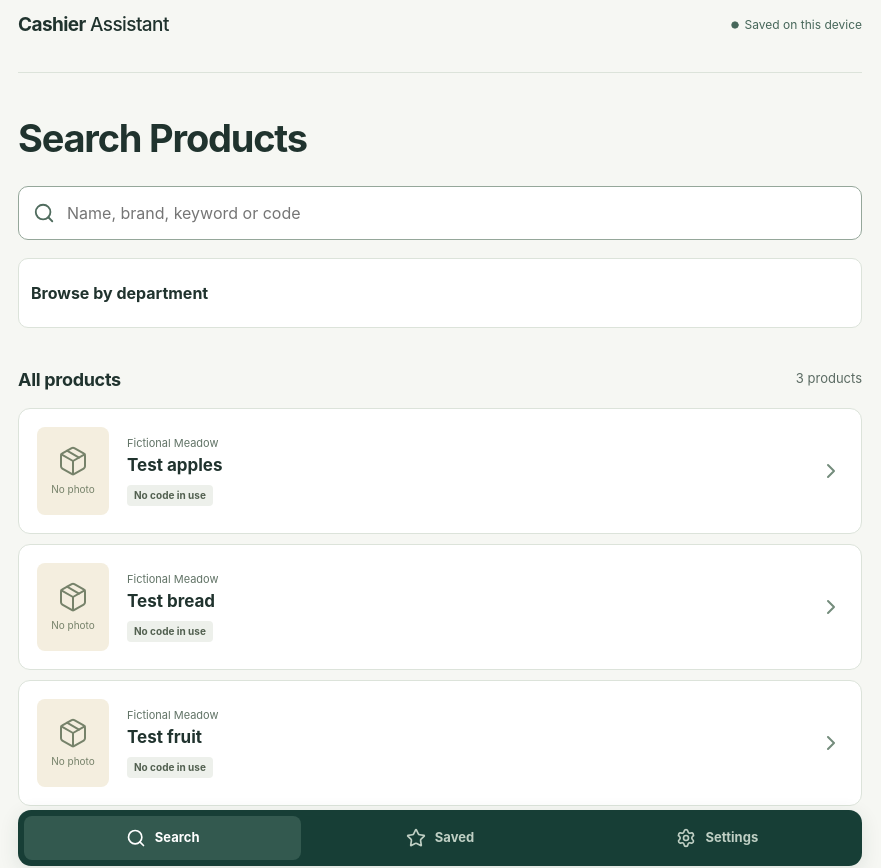
Scenario: browses only departments with counts and returns to all products
Expected: the text "3 products" is shown, [796,369,862,389]
Click the heading "Browse by department".
click(120, 293)  # box [31,283,208,303]
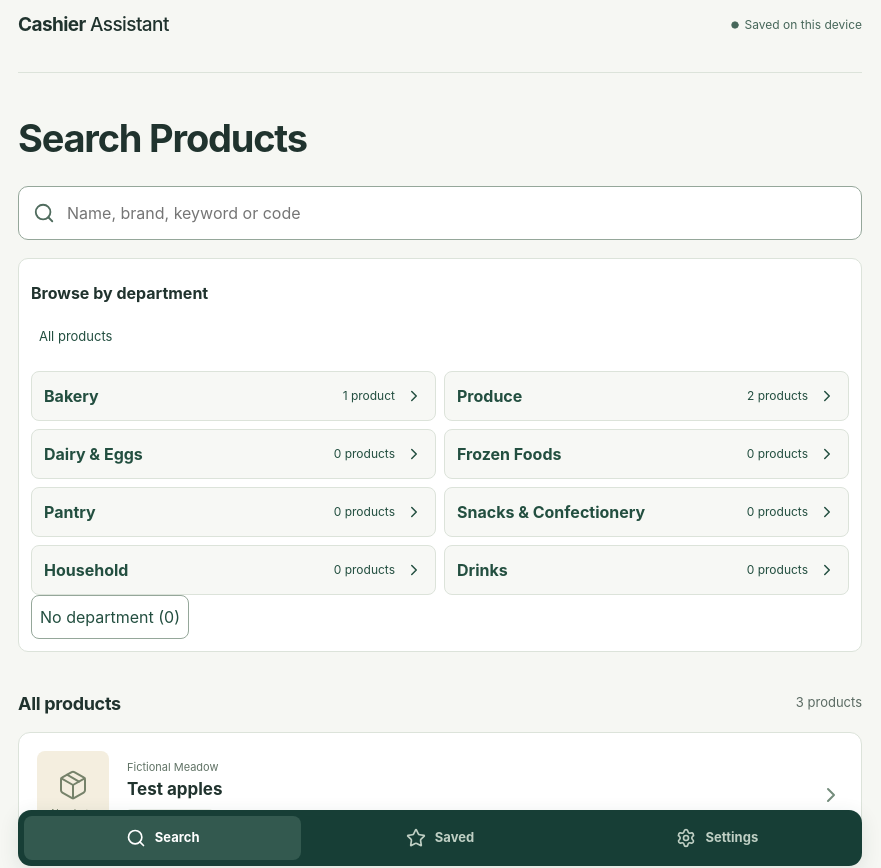
Click the button "Produce 2 products".
click(490, 396)  # box [444,371,849,421]
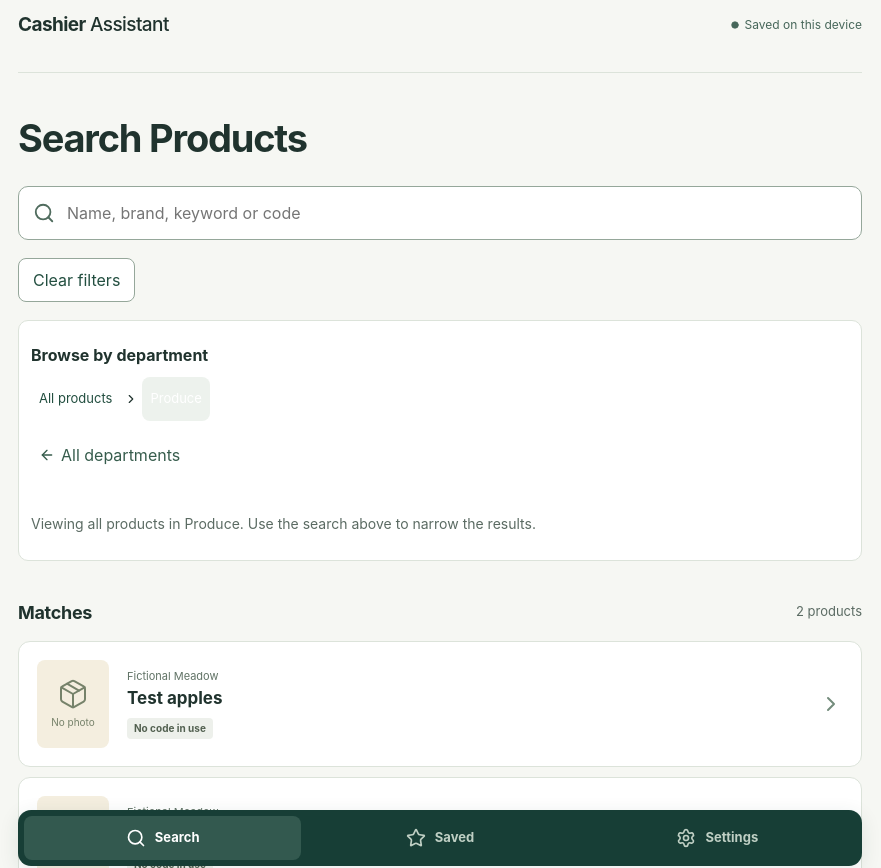
Expected: the message reads "2 products", [796,602,862,622]
Click the button "All products".
click(76, 399)  # box [31,377,120,421]
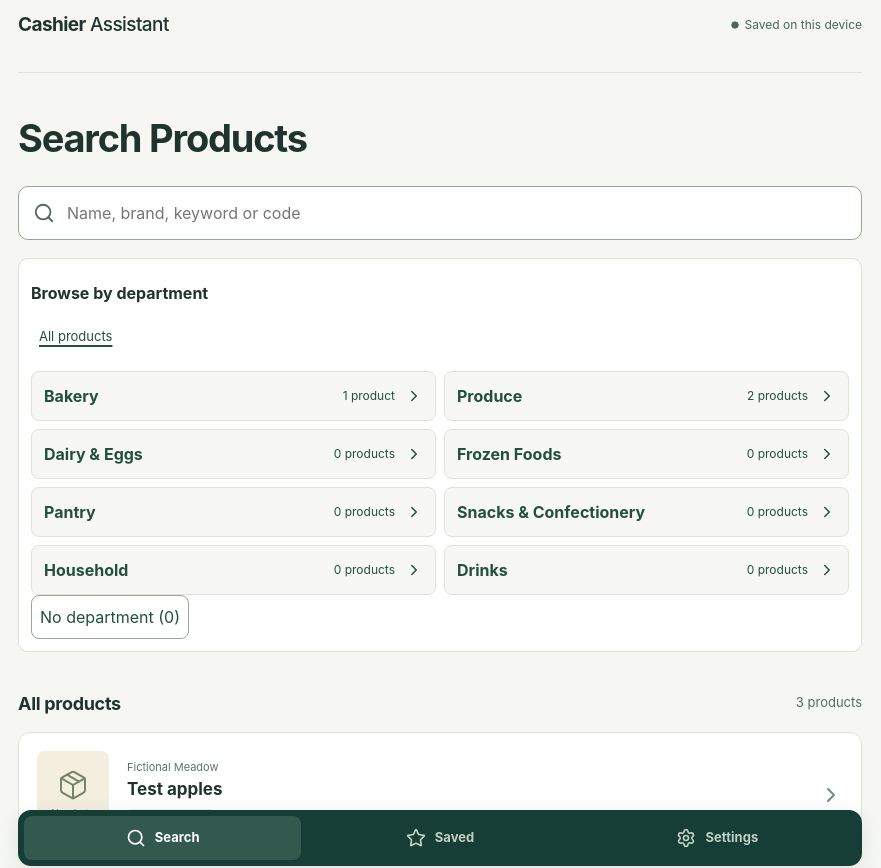
Expected: the message reads "3 products", [796,693,862,713]
